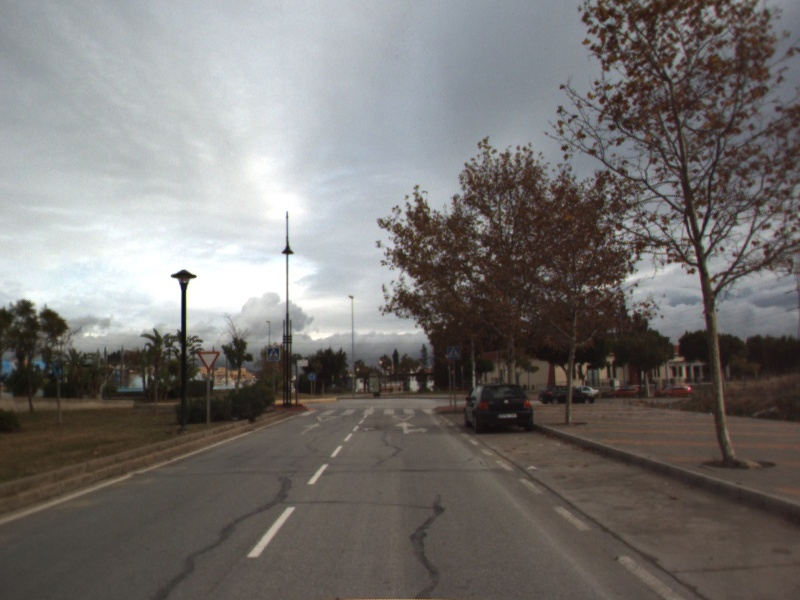STRAIGHT: (298, 421, 325, 437)
STRAIGHT_RIGHT: (393, 420, 430, 436)
